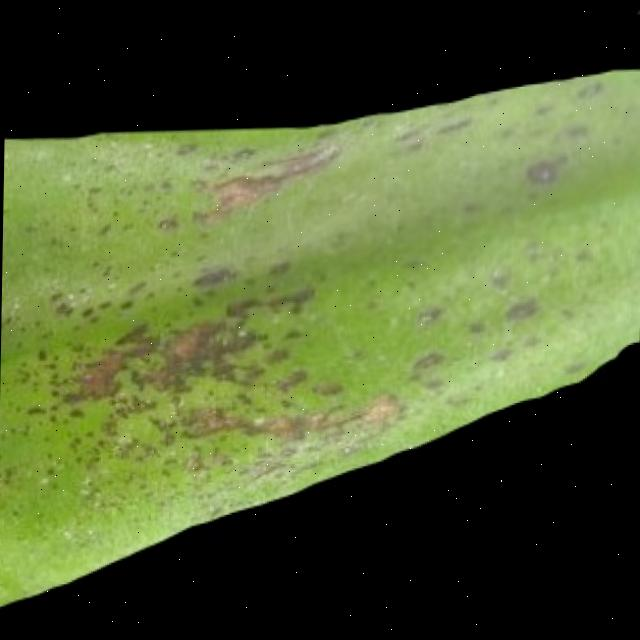mite: (522, 156, 571, 195), (192, 265, 235, 291), (503, 301, 542, 326), (526, 162, 559, 189), (522, 244, 547, 271), (415, 307, 446, 328), (489, 271, 514, 294)
spots: (0, 67, 640, 622)
